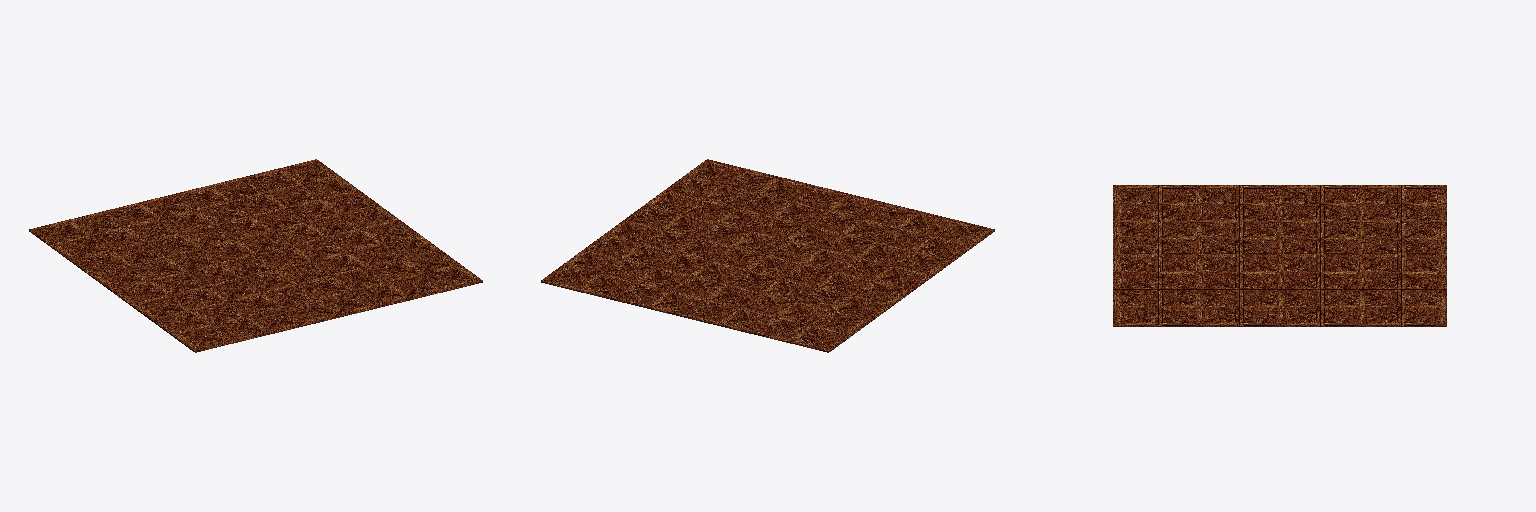
3 renders of one model, left to right at view 1: azimuth 30°, elevation 25°; view 2: azimuth 150°, elevation 25°; view 3: azimuth 270°, elevation 25°, orthographic.
Parts seen in each view (by area): view 1: Cube; view 2: Cube; view 3: Cube.
Boxes of the visible parts, x1,y1,x2,y2 form: Cube: [29, 159, 482, 352]; Cube: [541, 159, 994, 352]; Cube: [1113, 185, 1446, 326].
Size of the model in its own units: 400 by 2 by 400.
1 materials, 1 textured.